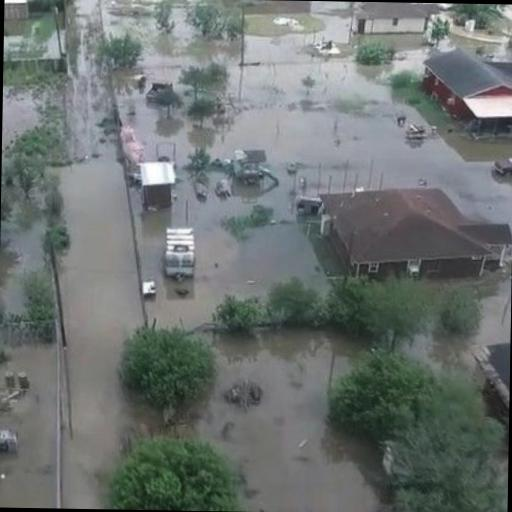flood: (130, 32, 512, 326), (59, 54, 162, 509), (184, 330, 386, 512), (0, 343, 57, 509), (101, 3, 238, 66), (0, 195, 42, 315), (3, 13, 58, 59), (478, 281, 512, 343), (141, 44, 193, 84), (2, 89, 36, 145), (305, 10, 350, 43), (74, 0, 97, 16), (310, 1, 330, 7)
house: (316, 182, 512, 283), (423, 46, 512, 128), (470, 338, 510, 456), (354, 2, 430, 36), (132, 153, 180, 200), (0, 421, 22, 458), (4, 0, 31, 19)
